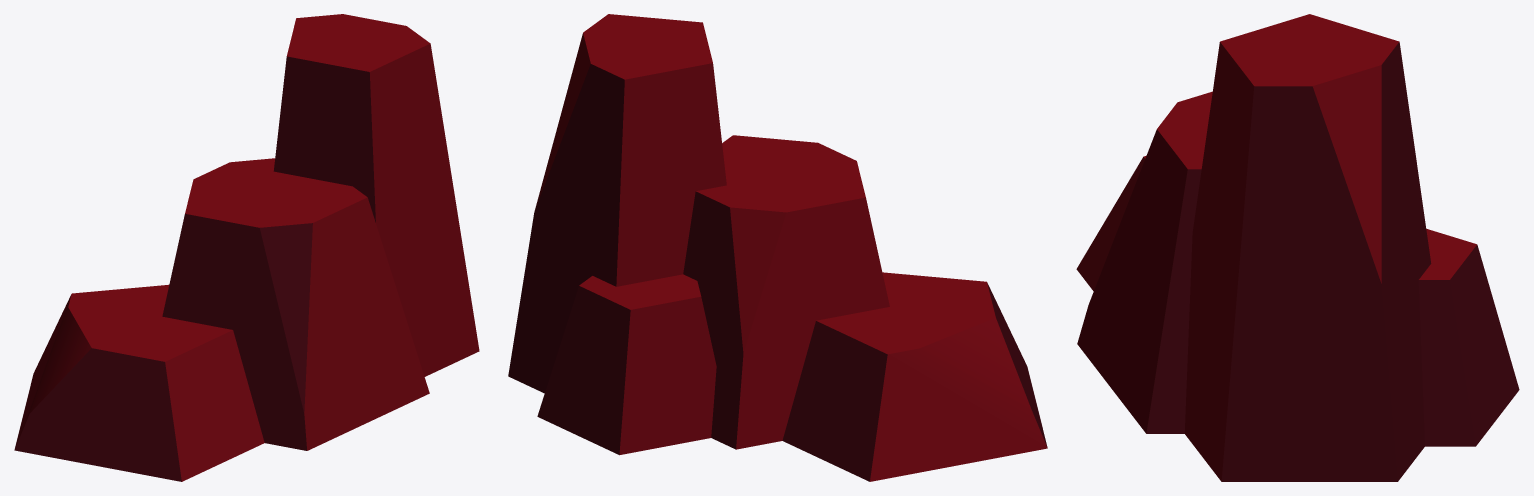
The model's file is rockC1.fbx.
The picture shows the model from 3 angles, left to right: view 1: azimuth 30°, elevation 25°; view 2: azimuth 150°, elevation 25°; view 3: azimuth 270°, elevation 25°; orthographic projection. The views are drawn at different scales.
Parts seen in each view (by area): view 1: rockC1; view 2: rockC1; view 3: rockC1.
Part boxes in pixels (bbox=[...]): rockC1: bbox=[14, 14, 479, 481]; rockC1: bbox=[508, 14, 1047, 481]; rockC1: bbox=[1076, 14, 1519, 481].
Size of the model in its own units: 220 by 143 by 153.
